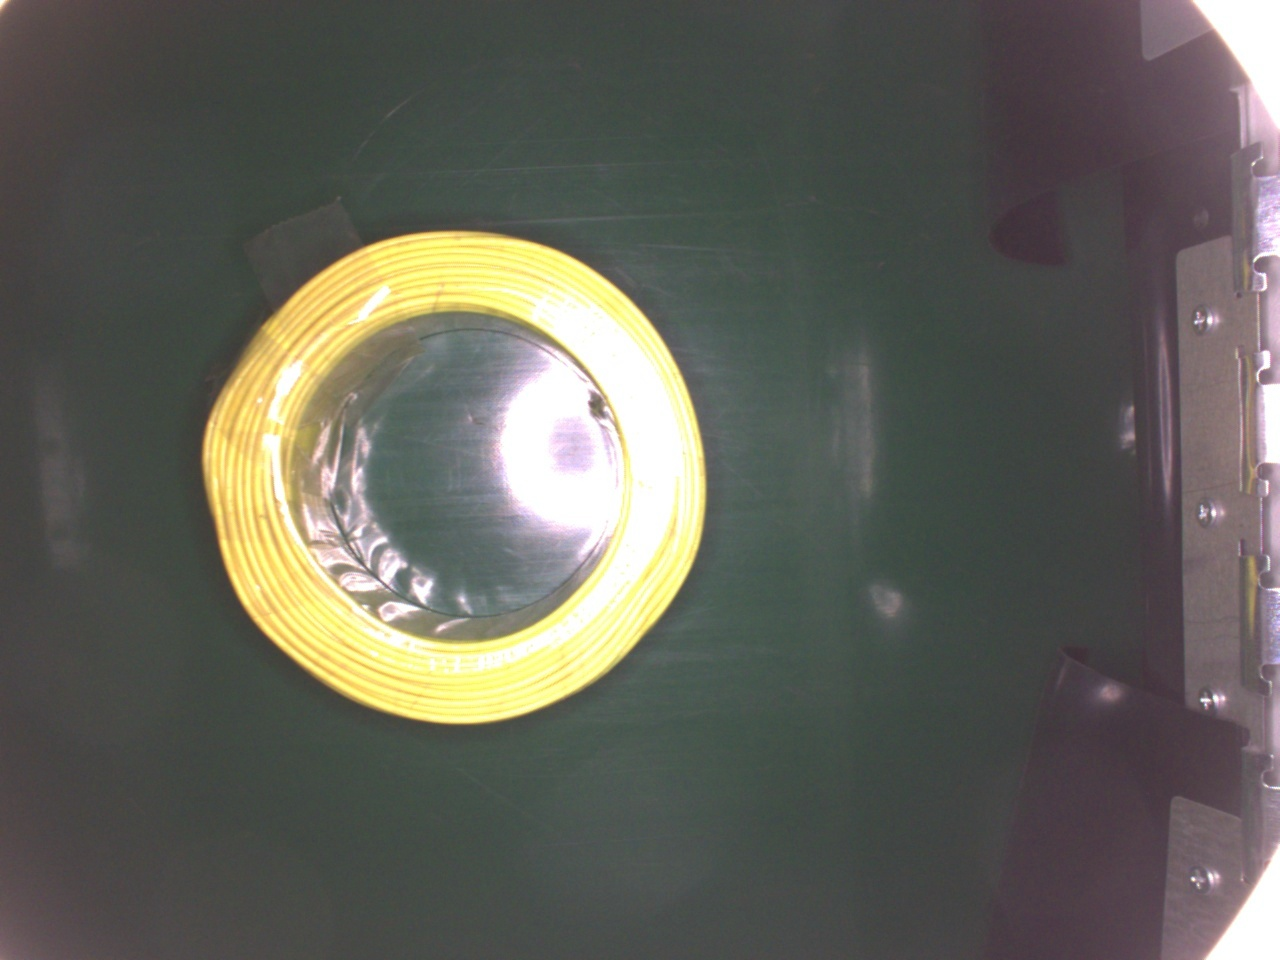yellow: (198, 228, 708, 732)
